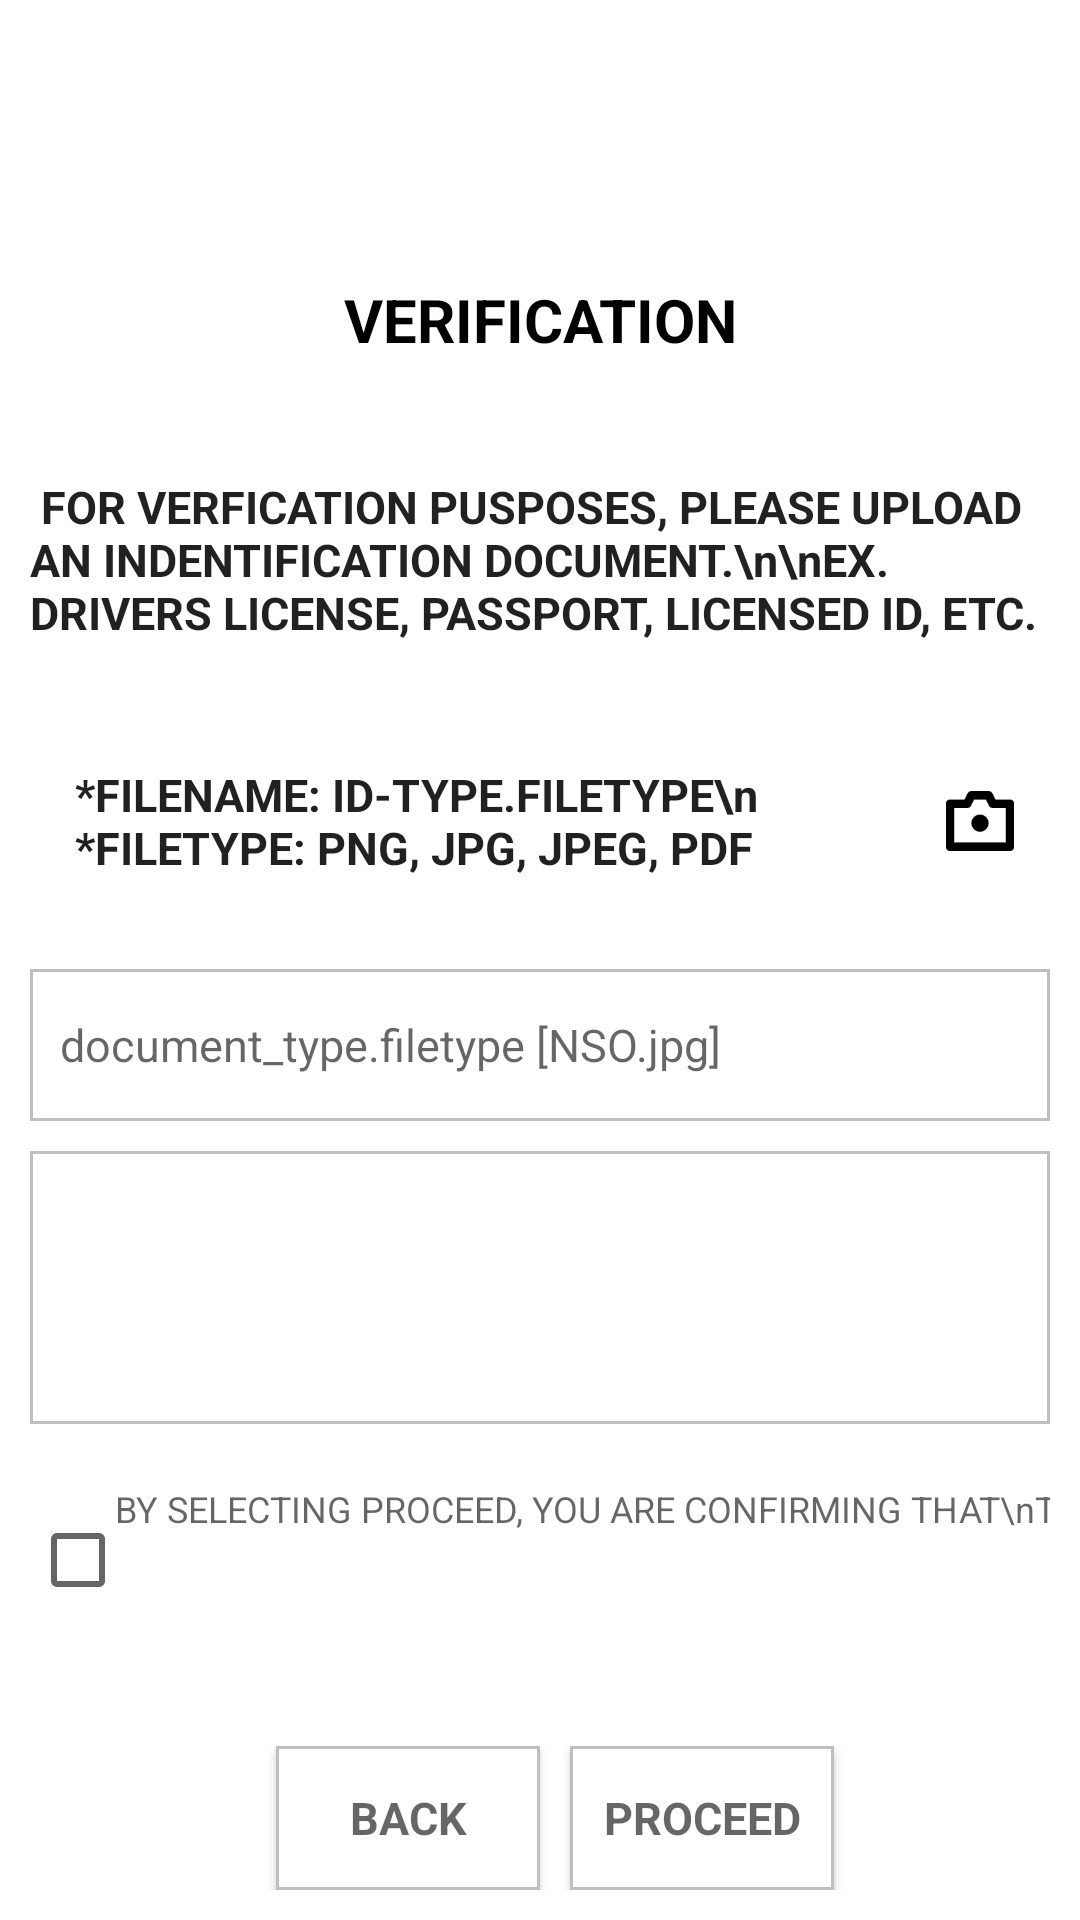

Screen size 1080 × 1920. Icon name, then its box in pixels as box(x1, y1, x2, y2):
scan: box(946, 791, 1014, 851)
